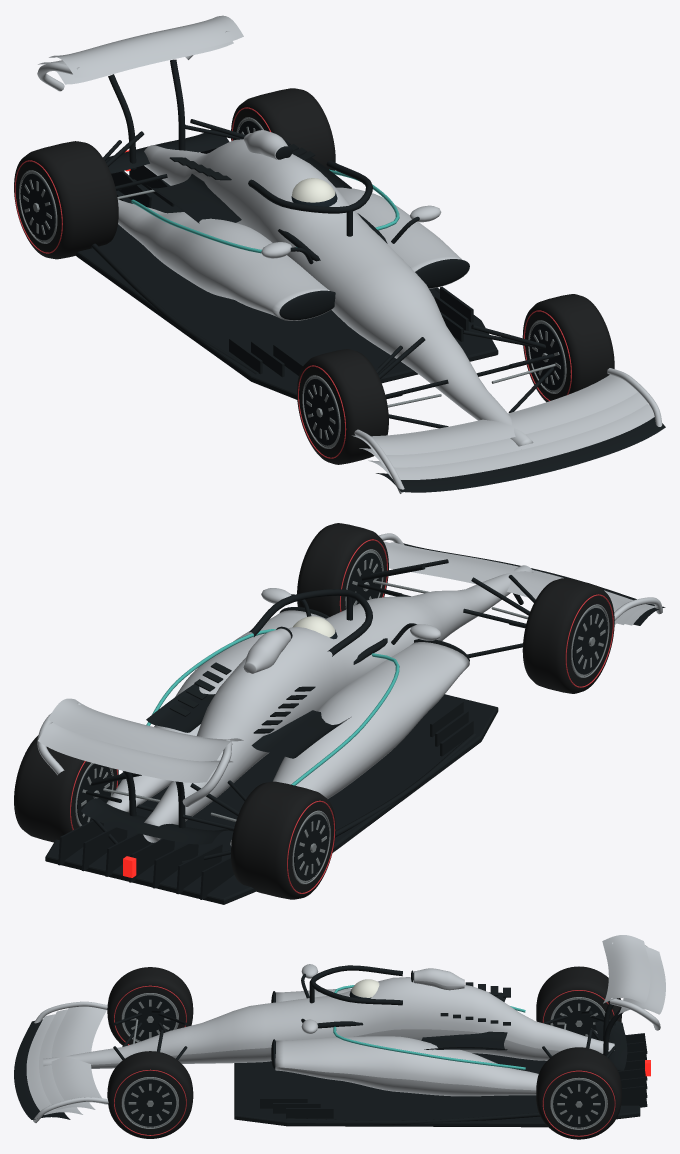
Rendered from open-wheel-medium.glb.
The picture shows the model from 3 angles, top to bottom: view 1: azimuth 30°, elevation 25°; view 2: azimuth 150°, elevation 25°; view 3: azimuth 270°, elevation 25°; orthographic projection. The views are drawn at different scales.
Visible parts, largest first — view 1: TD_V3_OpenWheel, Wheel_RL, Wheel_FL, Wheel_FR, Wheel_RR; view 2: TD_V3_OpenWheel, Wheel_RL, Wheel_FL, Wheel_RR, Wheel_FR; view 3: TD_V3_OpenWheel, Wheel_RR, Wheel_FR, Wheel_FL, Wheel_RL.
Boxes of the visible parts, x1,y1,x2,y2 form: TD_V3_OpenWheel: (37, 15, 665, 493); Wheel_RL: (14, 141, 118, 259); Wheel_FL: (297, 349, 388, 464); Wheel_FR: (522, 294, 614, 402); Wheel_RR: (231, 88, 335, 170); TD_V3_OpenWheel: (37, 533, 665, 904); Wheel_RL: (231, 781, 335, 899); Wheel_FL: (522, 578, 614, 693); Wheel_RR: (14, 735, 118, 842); Wheel_FR: (297, 523, 388, 616); TD_V3_OpenWheel: (14, 935, 665, 1127); Wheel_RR: (536, 1047, 621, 1139); Wheel_FR: (107, 1051, 193, 1138); Wheel_FL: (107, 967, 193, 1045); Wheel_RL: (536, 966, 621, 1038).
Size of the model in its own units: 2.07 by 1.18 by 5.47.
